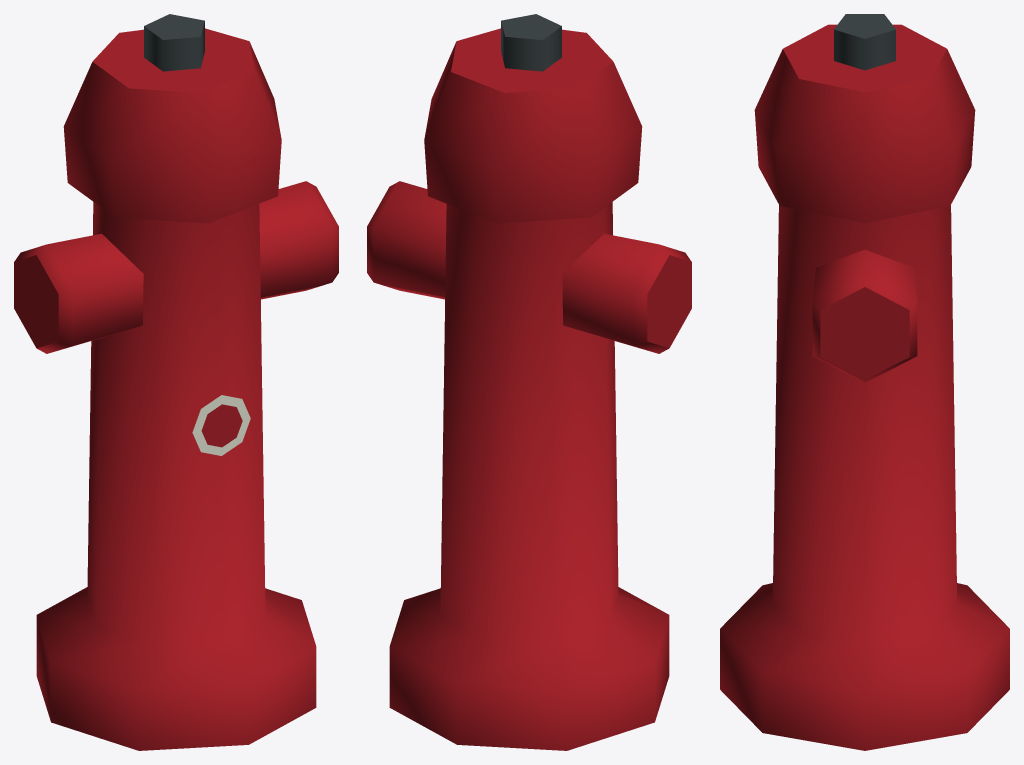
The model's file is sg-hydrant.glb.
3 views of the same model, side by side, from view 1: azimuth 30°, elevation 25°; view 2: azimuth 150°, elevation 25°; view 3: azimuth 270°, elevation 25° (orthographic).
Parts seen in each view (by area): view 1: pillar, bonnet, outlet_left, outlet_right, operating_nut, inspection_badge; view 2: pillar, bonnet, outlet_left, outlet_right, operating_nut; view 3: pillar, bonnet, outlet_right, operating_nut.
Boxes of the visible parts, x1,y1,x2,y2 form: pillar: (36, 202, 316, 750); bonnet: (63, 28, 281, 223); outlet_left: (14, 233, 143, 353); outlet_right: (259, 181, 338, 299); operating_nut: (144, 14, 204, 71); inspection_badge: (192, 395, 250, 455); pillar: (389, 202, 669, 750); bonnet: (424, 28, 642, 223); outlet_left: (562, 233, 691, 353); outlet_right: (367, 181, 446, 299); operating_nut: (501, 14, 561, 71); pillar: (720, 205, 1009, 750); bonnet: (754, 24, 975, 223); outlet_right: (812, 249, 917, 383); operating_nut: (834, 14, 895, 70).
Size of the model in its own units: 0.326 by 0.739 by 0.292.
